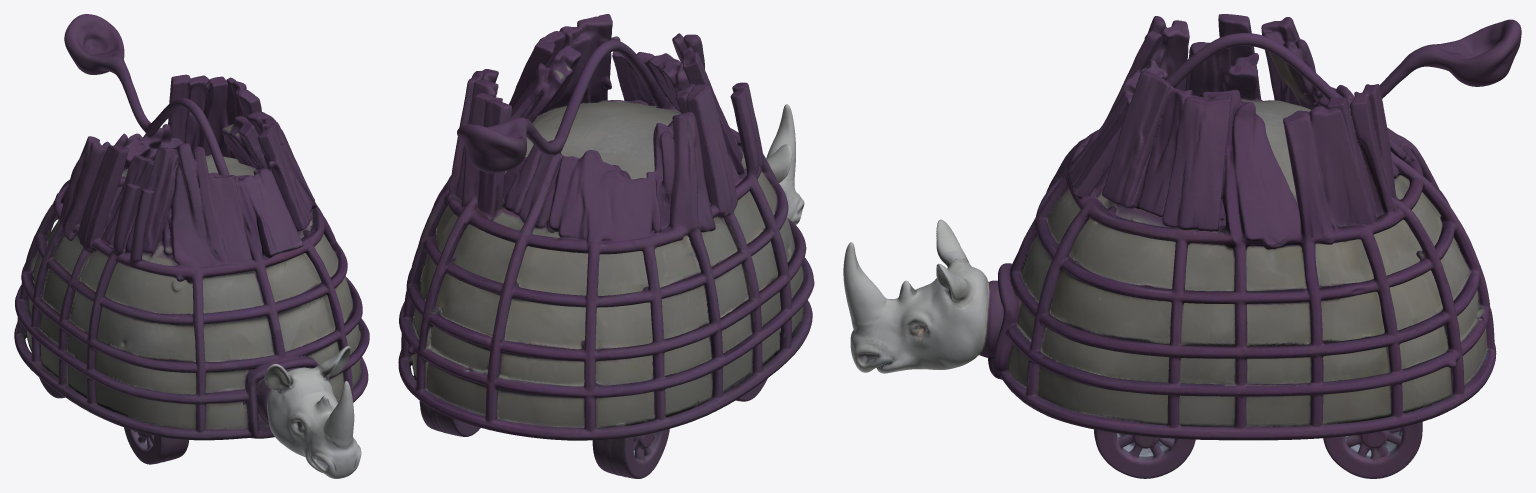
Rendered from Purple-RamTower-figure.glb.
3 views of the same model, side by side, from view 1: azimuth 30°, elevation 25°; view 2: azimuth 150°, elevation 25°; view 3: azimuth 270°, elevation 25° (orthographic). The views are drawn at different scales.
Visible parts, largest first — view 1: tripo_node_99ea8cc9-f0f9-401a-a971-6f827198ad19; view 2: tripo_node_99ea8cc9-f0f9-401a-a971-6f827198ad19; view 3: tripo_node_99ea8cc9-f0f9-401a-a971-6f827198ad19.
Part boxes in pixels (x1,y1,x2,y2): tripo_node_99ea8cc9-f0f9-401a-a971-6f827198ad19: [14, 14, 369, 478]; tripo_node_99ea8cc9-f0f9-401a-a971-6f827198ad19: [398, 14, 814, 478]; tripo_node_99ea8cc9-f0f9-401a-a971-6f827198ad19: [843, 14, 1521, 478].
Bounding box in the file's own units: 0.5812 × 0.6563 × 1.
1 material, 1 textured.
